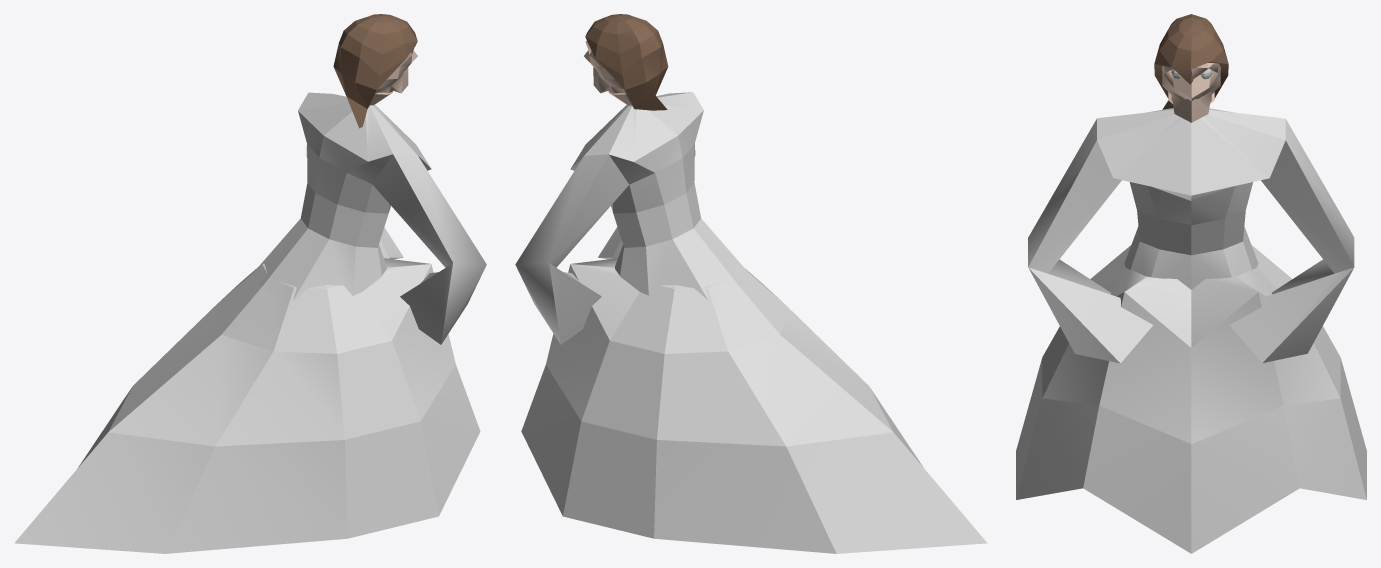
File: The_Bride.fbx
3 views of the same model, side by side, from view 1: azimuth 30°, elevation 25°; view 2: azimuth 150°, elevation 25°; view 3: azimuth 270°, elevation 25° (orthographic). The views are drawn at different scales.
Visible parts, largest first — view 1: pasted__DressBottom, pasted__Torso2, pasted__pSphere1, pasted__polySurface20; view 2: pasted__DressBottom, pasted__Torso2, pasted__pSphere1, pasted__polySurface20; view 3: pasted__DressBottom, pasted__Torso2, pasted__pSphere1, pasted__polySurface20.
Part boxes in pixels (x1=…): pasted__DressBottom: x1=14, y1=239, x2=480, y2=553; pasted__Torso2: x1=255, y1=91, x2=486, y2=344; pasted__pSphere1: x1=333, y1=14, x2=417, y2=128; pasted__polySurface20: x1=375, y1=46, x2=417, y2=93; pasted__DressBottom: x1=521, y1=239, x2=987, y2=553; pasted__Torso2: x1=515, y1=92, x2=747, y2=344; pasted__pSphere1: x1=585, y1=14, x2=668, y2=110; pasted__polySurface20: x1=584, y1=41, x2=626, y2=93; pasted__DressBottom: x1=1016, y1=245, x2=1366, y2=553; pasted__Torso2: x1=1028, y1=92, x2=1354, y2=363; pasted__pSphere1: x1=1154, y1=14, x2=1228, y2=109; pasted__polySurface20: x1=1161, y1=63, x2=1221, y2=122.
Size of the model in its own units: 1.47 by 1.39 by 0.9028.
